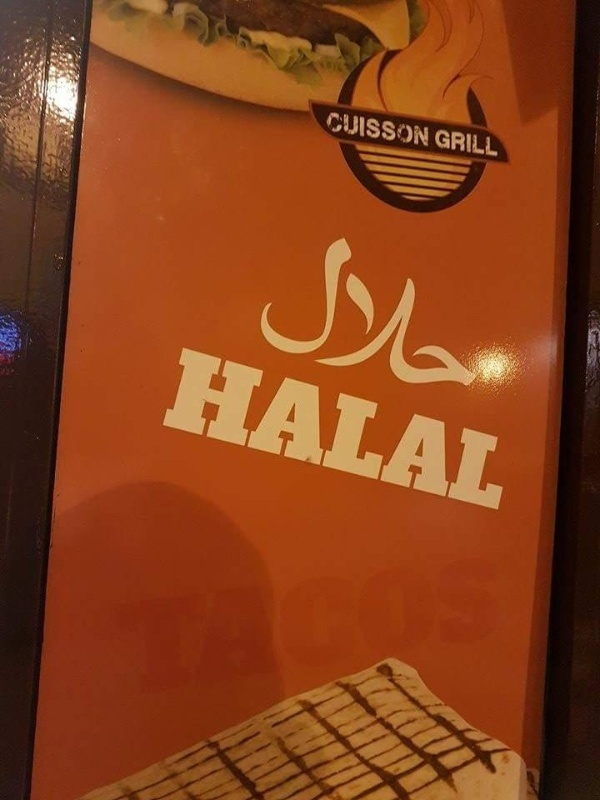text: (289, 224, 304, 410), (305, 224, 320, 410), (321, 224, 336, 410), (337, 224, 352, 410), (353, 224, 368, 410), (369, 224, 384, 410), (385, 224, 400, 410), (401, 224, 416, 410), (417, 224, 432, 410), (433, 224, 448, 410), (449, 224, 464, 410), (465, 224, 480, 410), (481, 224, 496, 410), (193, 346, 208, 511), (209, 346, 224, 511), (225, 346, 240, 511), (241, 346, 256, 511), (257, 346, 272, 511), (273, 346, 288, 511), (289, 346, 304, 511), (305, 346, 320, 511), (321, 346, 336, 511), (337, 346, 352, 511), (353, 346, 368, 511), (369, 346, 384, 511), (385, 346, 400, 511), (401, 346, 416, 511), (417, 346, 432, 511), (433, 346, 448, 511), (449, 346, 464, 511), (465, 346, 480, 511), (481, 346, 496, 511), (497, 346, 512, 511), (113, 551, 128, 711), (129, 551, 144, 711), (145, 551, 160, 711), (161, 551, 176, 711), (177, 551, 192, 711), (193, 551, 208, 711), (209, 551, 224, 711), (225, 551, 240, 711), (241, 551, 256, 711), (257, 551, 272, 711), (273, 551, 288, 711), (289, 551, 304, 711), (305, 551, 320, 711), (321, 551, 336, 711), (337, 551, 352, 711), (353, 551, 368, 711), (369, 551, 384, 711), (385, 551, 400, 711), (401, 551, 416, 711), (417, 551, 432, 711), (433, 551, 448, 711), (449, 551, 464, 711), (465, 551, 480, 711), (481, 551, 496, 711), (497, 551, 509, 711), (181, 346, 192, 511), (497, 224, 504, 410), (337, 111, 352, 147), (353, 111, 368, 147), (369, 111, 384, 147), (385, 111, 400, 147), (401, 111, 416, 147), (417, 111, 430, 147), (449, 126, 464, 157), (465, 126, 480, 157), (481, 126, 496, 157), (434, 126, 448, 157), (326, 111, 336, 147), (110, 551, 112, 711), (497, 126, 499, 157)
